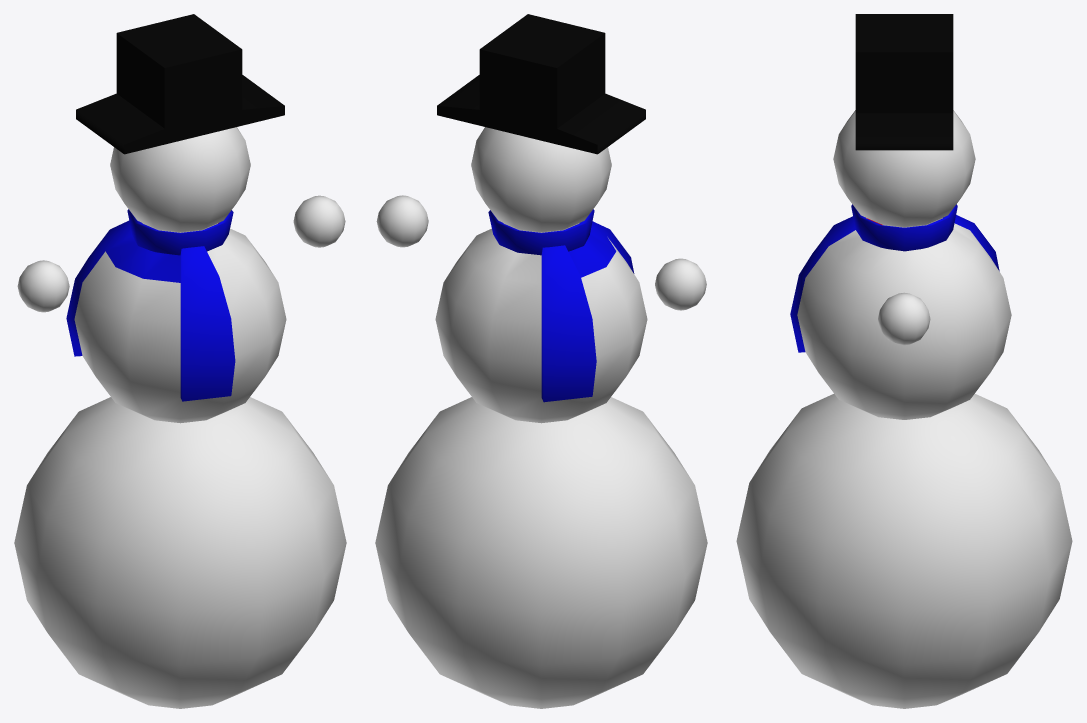
Rendered from mrsnowmanBlue.fbx.
3 views of the same model, side by side, from view 1: azimuth 30°, elevation 25°; view 2: azimuth 150°, elevation 25°; view 3: azimuth 270°, elevation 25° (orthographic).
Visible parts, largest first — view 1: pSphere1, pSphere2, pCube1, pSphere3, pSphere4, pasted__pSphere4; view 2: pSphere1, pSphere2, pCube1, pSphere3, pSphere4, pasted__pSphere4; view 3: pSphere1, pSphere2, pCube1, pSphere3, pasted__pSphere4.
Part boxes in pixels (bbox=[...]): pSphere1: bbox=[14, 397, 346, 708]; pSphere2: bbox=[66, 209, 286, 423]; pCube1: bbox=[76, 14, 284, 154]; pSphere3: bbox=[110, 127, 250, 232]; pSphere4: bbox=[17, 260, 69, 312]; pasted__pSphere4: bbox=[293, 195, 345, 247]; pSphere1: bbox=[375, 397, 707, 708]; pSphere2: bbox=[435, 209, 647, 423]; pCube1: bbox=[437, 14, 645, 154]; pSphere3: bbox=[471, 127, 611, 232]; pSphere4: bbox=[655, 258, 706, 310]; pasted__pSphere4: bbox=[376, 195, 428, 247]; pSphere1: bbox=[736, 394, 1072, 708]; pSphere2: bbox=[790, 204, 1011, 419]; pCube1: bbox=[855, 14, 953, 150]; pSphere3: bbox=[833, 110, 975, 227]; pasted__pSphere4: bbox=[878, 292, 930, 345].
Size of the model in its own units: 5.28 by 10.23 by 4.72.
